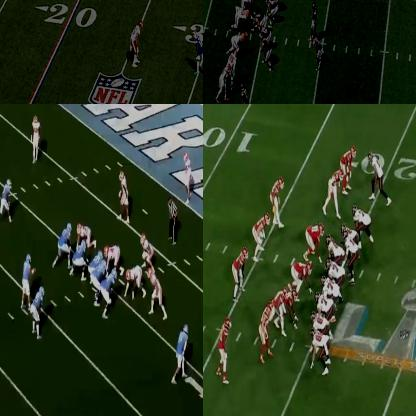CENTER: (325, 238, 342, 265), (90, 250, 106, 274), (252, 12, 265, 31)
DB: (217, 317, 231, 385), (341, 144, 355, 196), (270, 174, 284, 226), (130, 19, 143, 66), (32, 114, 42, 164), (183, 152, 192, 197)
LB: (148, 266, 163, 314), (253, 211, 267, 261), (118, 170, 130, 223), (216, 63, 232, 102), (233, 249, 245, 294), (142, 231, 154, 263)
QB: (345, 232, 359, 286), (20, 254, 30, 306), (310, 1, 318, 36)
SKILL: (270, 280, 288, 338), (369, 153, 388, 204), (310, 328, 330, 373), (326, 165, 341, 216), (32, 286, 47, 334), (177, 328, 189, 378), (0, 176, 13, 220), (311, 310, 330, 330), (314, 35, 324, 70), (262, 303, 268, 355), (195, 33, 202, 74), (240, 87, 254, 103)
